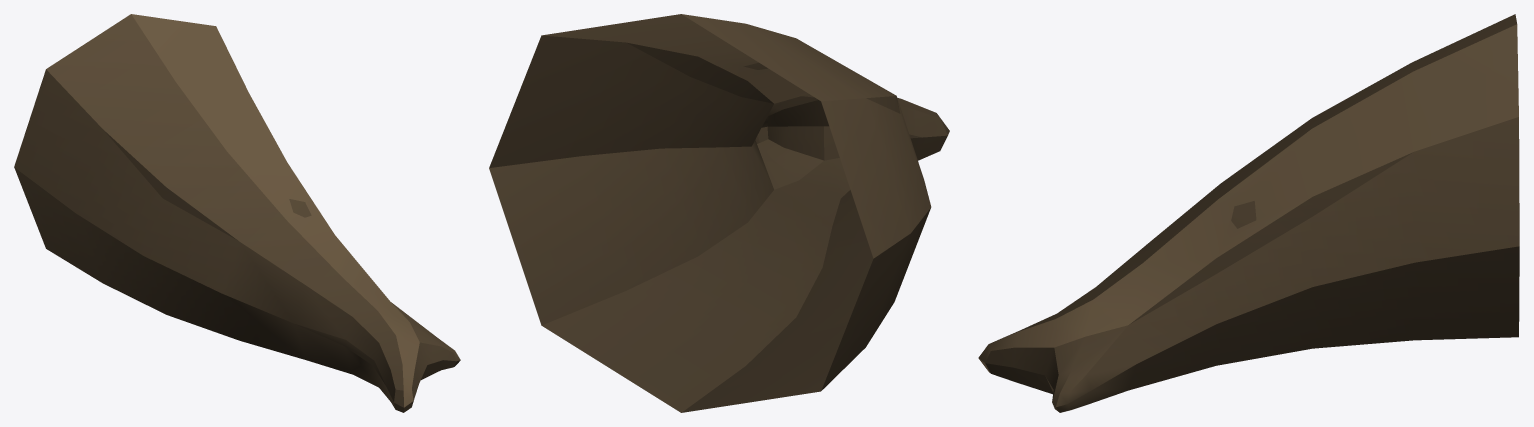
3 renders of one model, left to right at view 1: azimuth 30°, elevation 25°; view 2: azimuth 150°, elevation 25°; view 3: azimuth 270°, elevation 25°, orthographic. The views are drawn at different scales.
Visible parts, largest first — view 1: root_2; view 2: root_2; view 3: root_2.
Boxes of the visible parts, bbox=[...] form: root_2: bbox=[14, 14, 460, 412]; root_2: bbox=[489, 14, 949, 412]; root_2: bbox=[978, 14, 1519, 412].
Bounding box in the file's own units: 1.19 × 1.14 × 1.76.
1 material, 1 textured.
